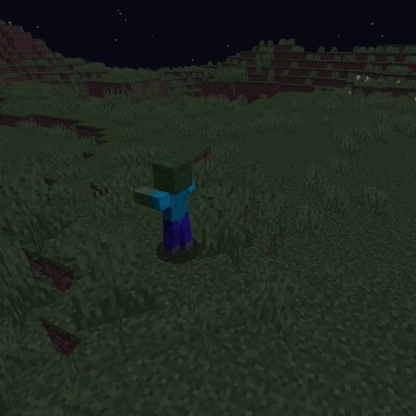zombie: (131, 153, 198, 259)
